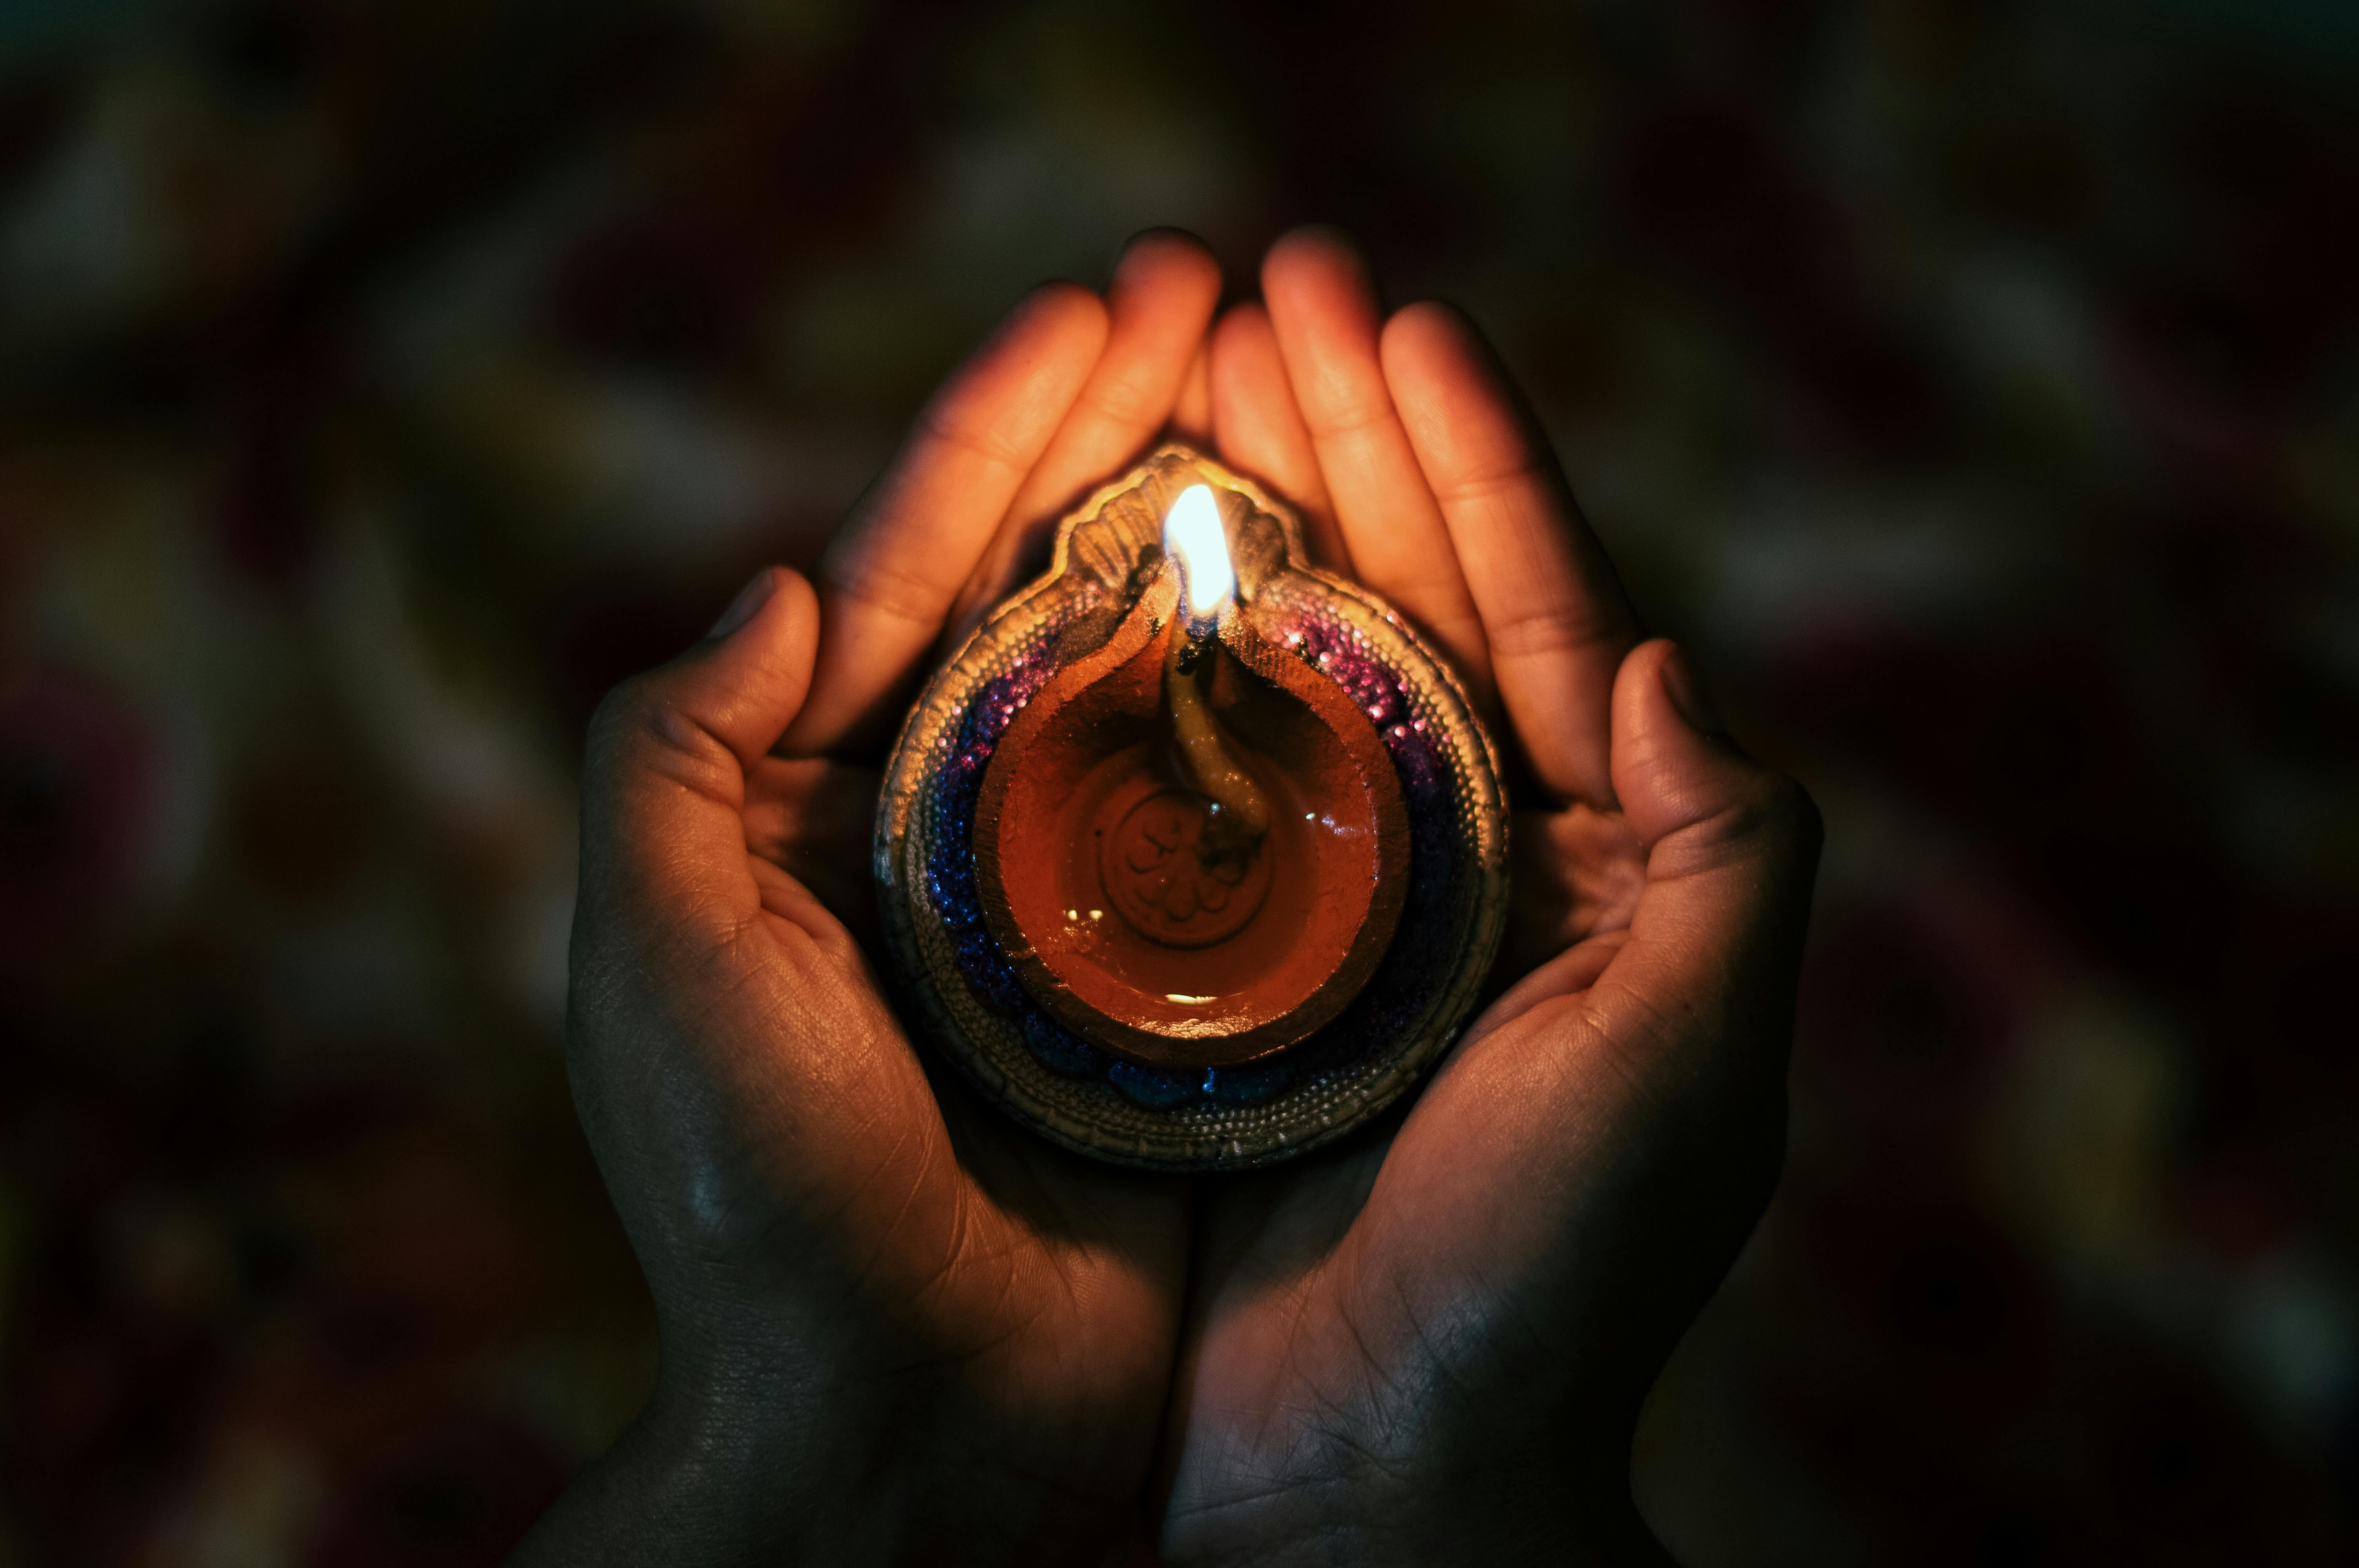Fire: (1127, 490, 1270, 644)
